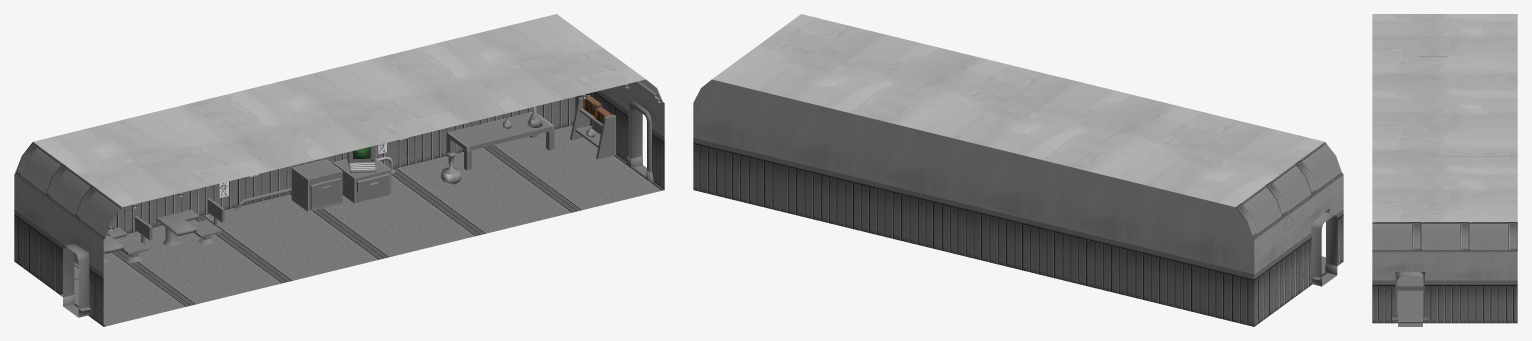
Rendered from MSH_Class_room_L1_R3_optimized.fbx.
The picture shows the model from 3 angles, left to right: view 1: azimuth 30°, elevation 25°; view 2: azimuth 150°, elevation 25°; view 3: azimuth 270°, elevation 25°; orthographic projection. The views are drawn at different scales.
Visible parts, largest first — view 1: lightmap1, lightmap0, lightmap-1; view 2: lightmap1, lightmap-1; view 3: lightmap1, lightmap-1.
Part boxes in pixels (bbox=[...]): lightmap1: bbox=[14, 14, 664, 326]; lightmap0: bbox=[45, 81, 661, 280]; lightmap-1: bbox=[63, 107, 646, 317]; lightmap1: bbox=[693, 14, 1343, 326]; lightmap-1: bbox=[1311, 212, 1337, 286]; lightmap1: bbox=[1372, 14, 1517, 323]; lightmap-1: bbox=[1397, 272, 1423, 326].
Size of the model in its own units: 30.91 by 5.93 by 8.26.
Materials: 4 (4 with a texture image).
